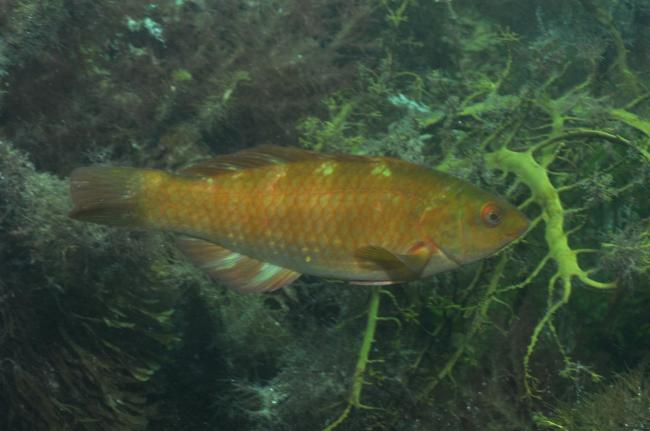fish: (68, 144, 530, 297)
